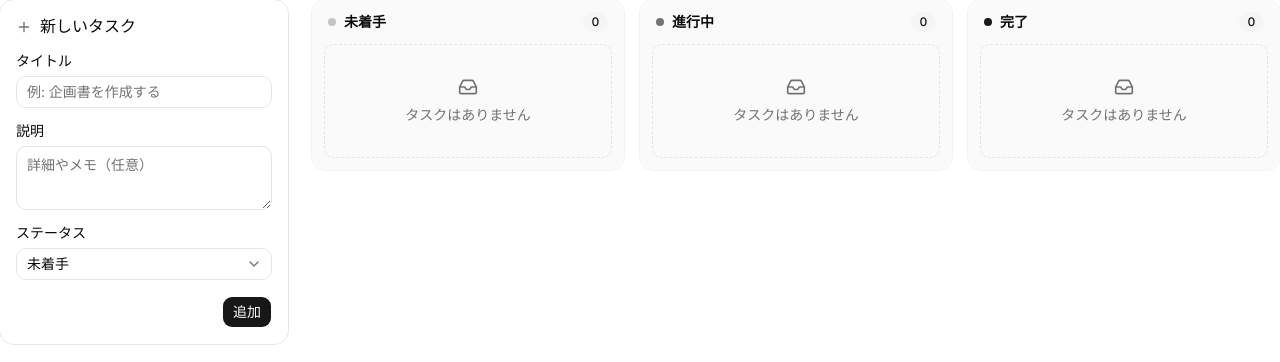
Test: タスクの追加 › ステータスを選んで追加すると、選んだ列に表示される
Type "洗濯" into the field labelled "タイトル". click: (144, 92)
box: [16,76,272,108]
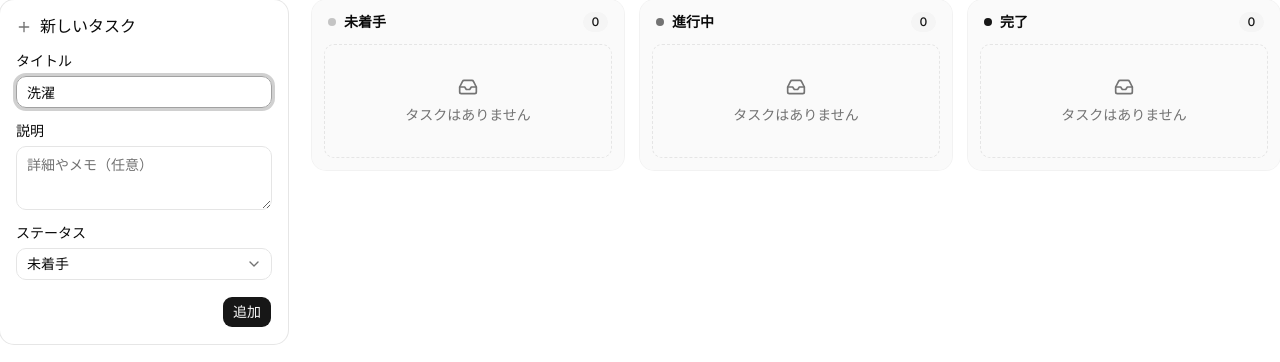
Select "完了" in the dropdown labelled "ステータス". click: (144, 264)
box: [16,248,272,280]
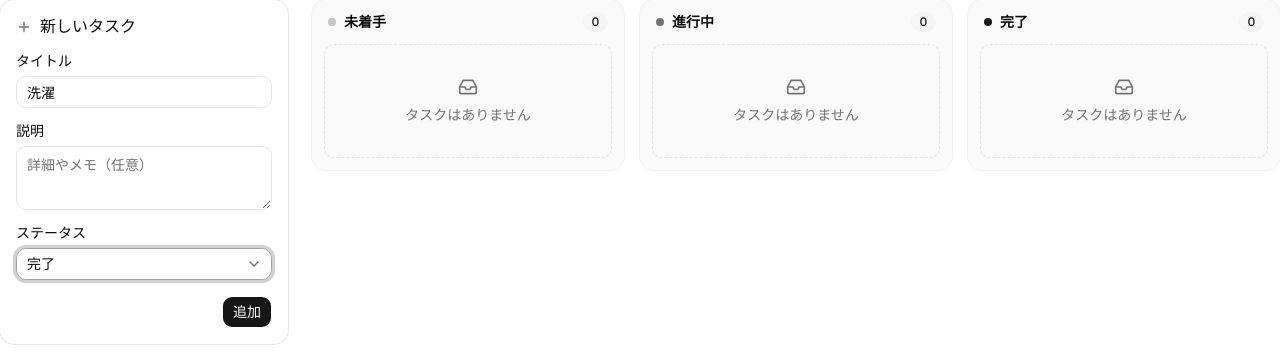
Click the button "追加". click: (247, 312)
box: [222,296,272,328]
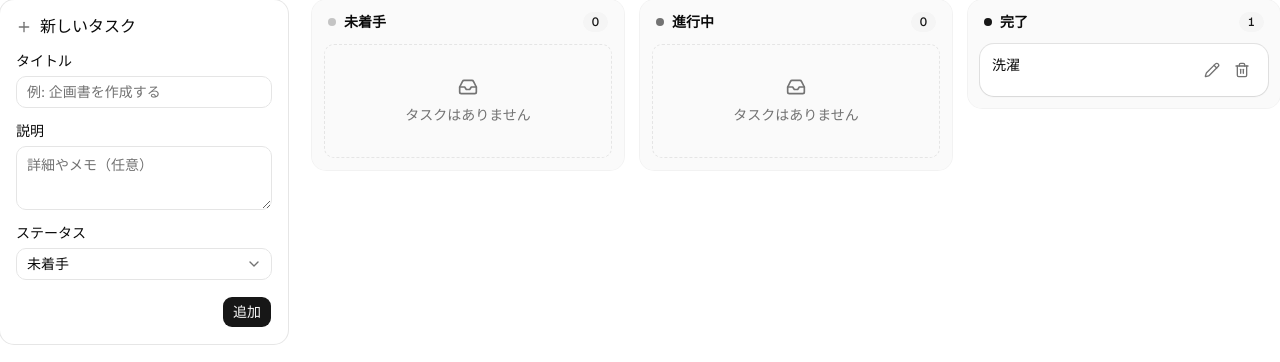
Expected: the element "洗濯" is shown, [980,44,1268,96]
